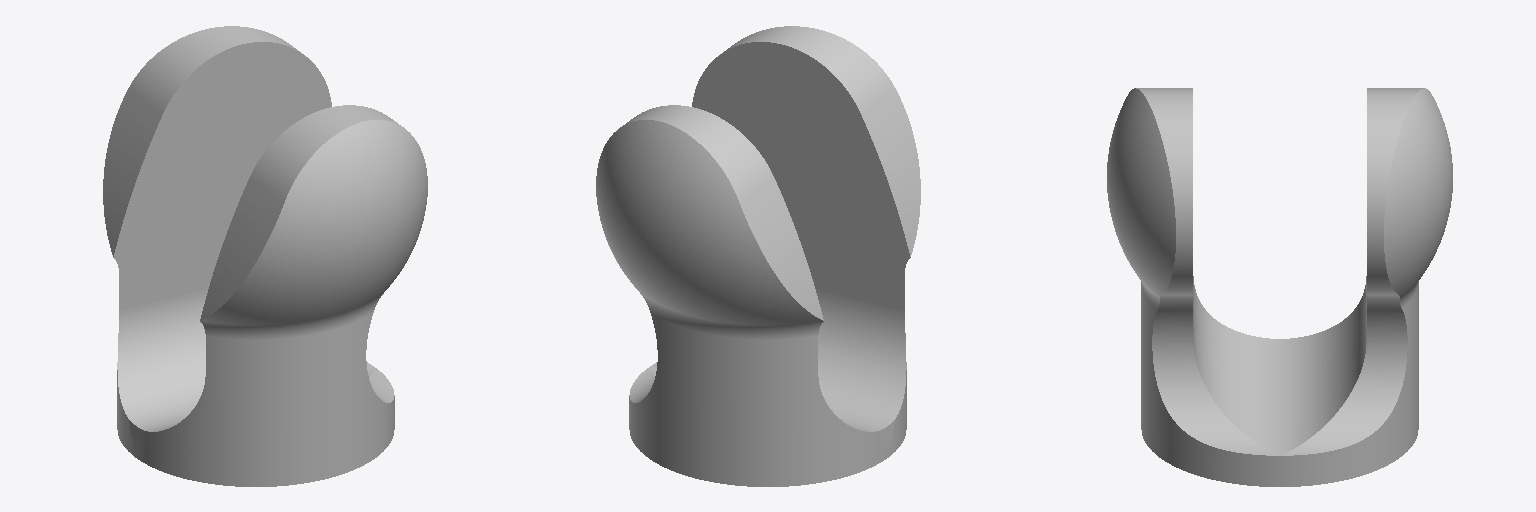
Rendered from Bone1.obj.
The picture shows the model from 3 angles: view 1: azimuth 30°, elevation 25°; view 2: azimuth 150°, elevation 25°; view 3: azimuth 270°, elevation 25°; orthographic projection.
Parts seen in each view (by area): view 1: Bone1; view 2: Bone1; view 3: Bone1.
Part boxes in pixels (bbox=[...]): Bone1: bbox=[103, 26, 427, 486]; Bone1: bbox=[596, 26, 920, 486]; Bone1: bbox=[1107, 88, 1452, 486].
Size of the model in its own units: 200 by 275 by 250.